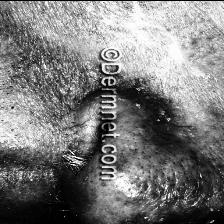Non-Cancerous Skin Condition: (122, 92, 224, 224), (146, 0, 204, 97)
